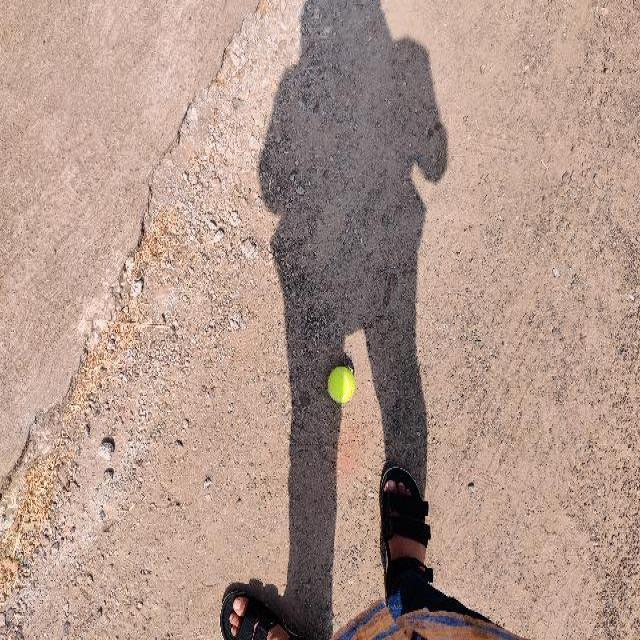tennis-ball: (328, 366, 355, 402)
